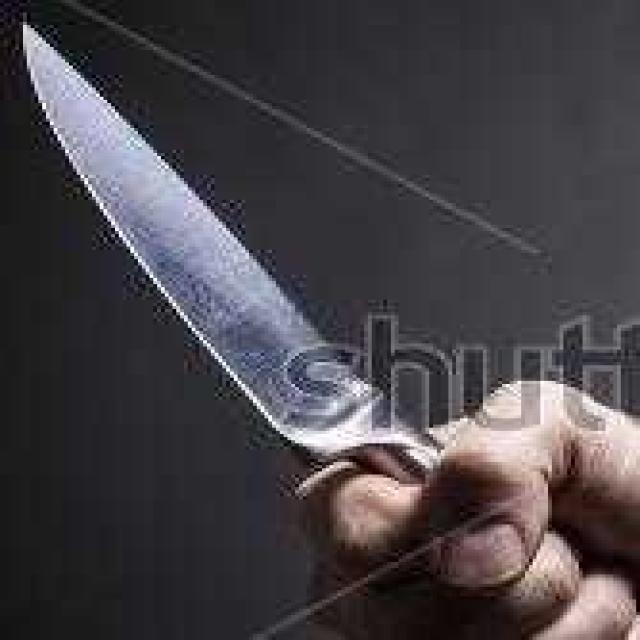Knife: (15, 18, 639, 640)
